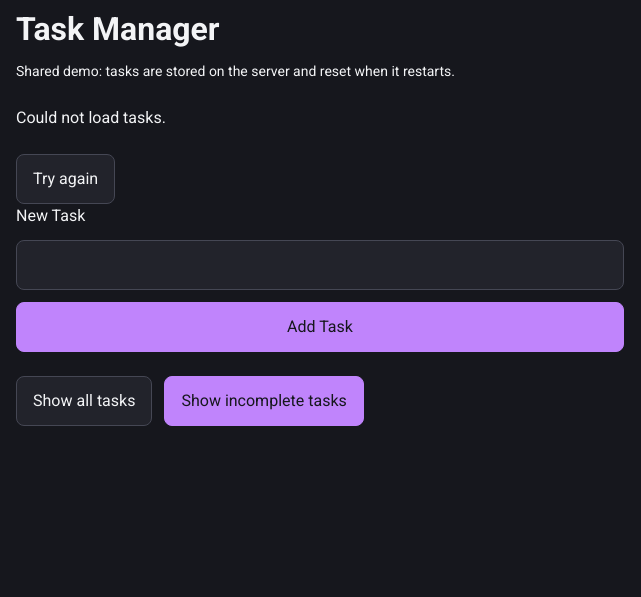
Test: retries a failed initial request and clears the error
Check: the message "Could not load tasks." is shown, box [16,108,166,127]
Click the button "Try again" at (66, 179), box [16,154,115,204]
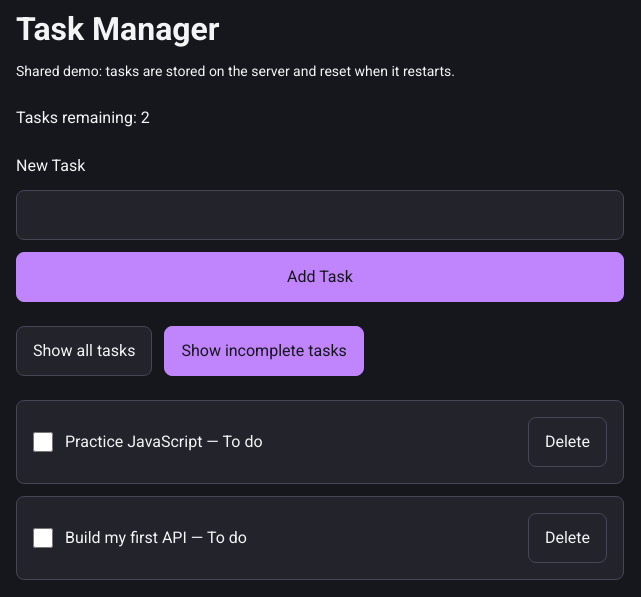
Check: the checkbox named "Practice JavaScript" is shown, box [33,432,53,452]
Check: the message "Could not load tasks." is gone
